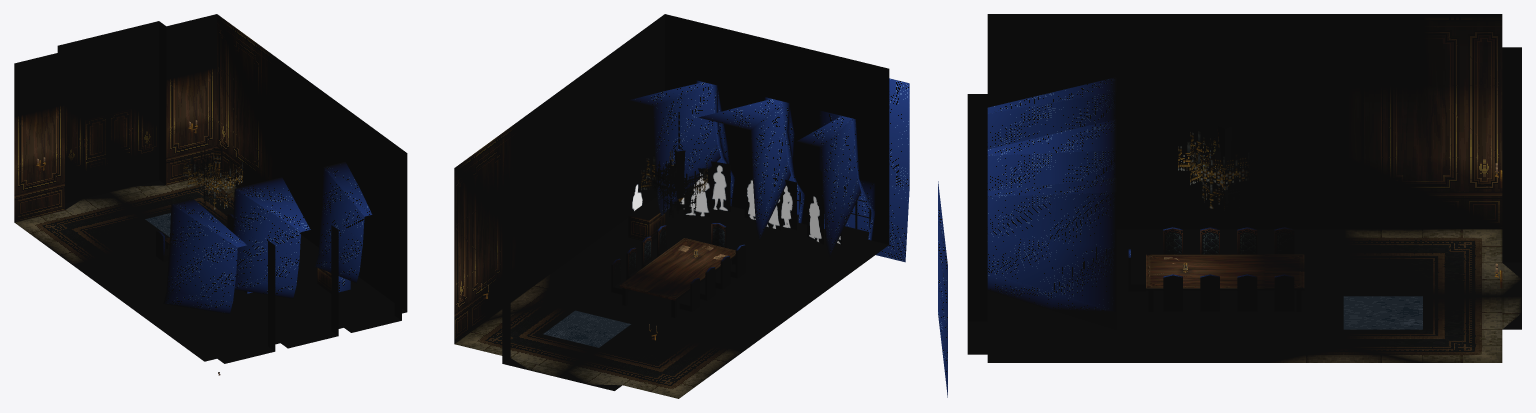
Rendered from MAP213.gltf.
3 views of the same model, side by side, from view 1: azimuth 30°, elevation 25°; view 2: azimuth 150°, elevation 25°; view 3: azimuth 270°, elevation 25° (orthographic). The views are drawn at different scales.
Size of the model in its own units: 103 by 89.6 by 189.
Materials: 87 (87 with a texture image).
